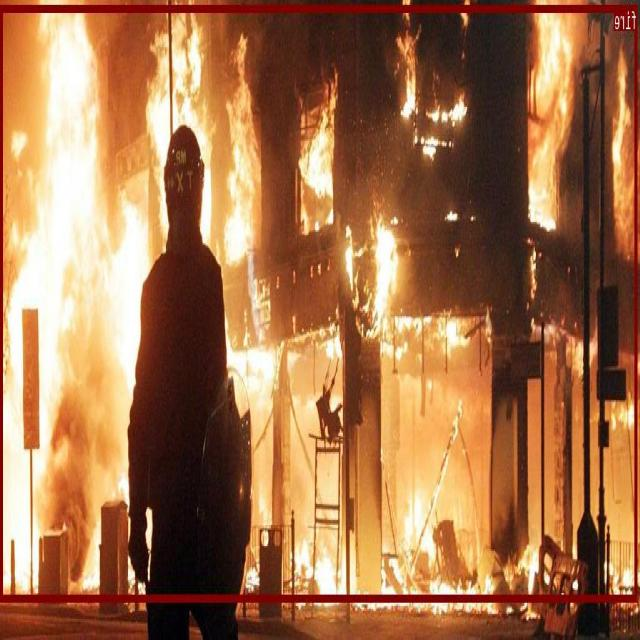fire: (1, 3, 638, 600)
